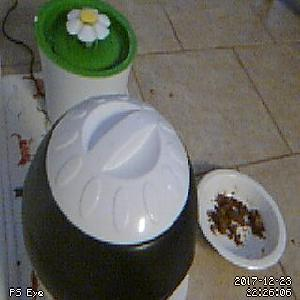fountain: (31, 1, 138, 78)
